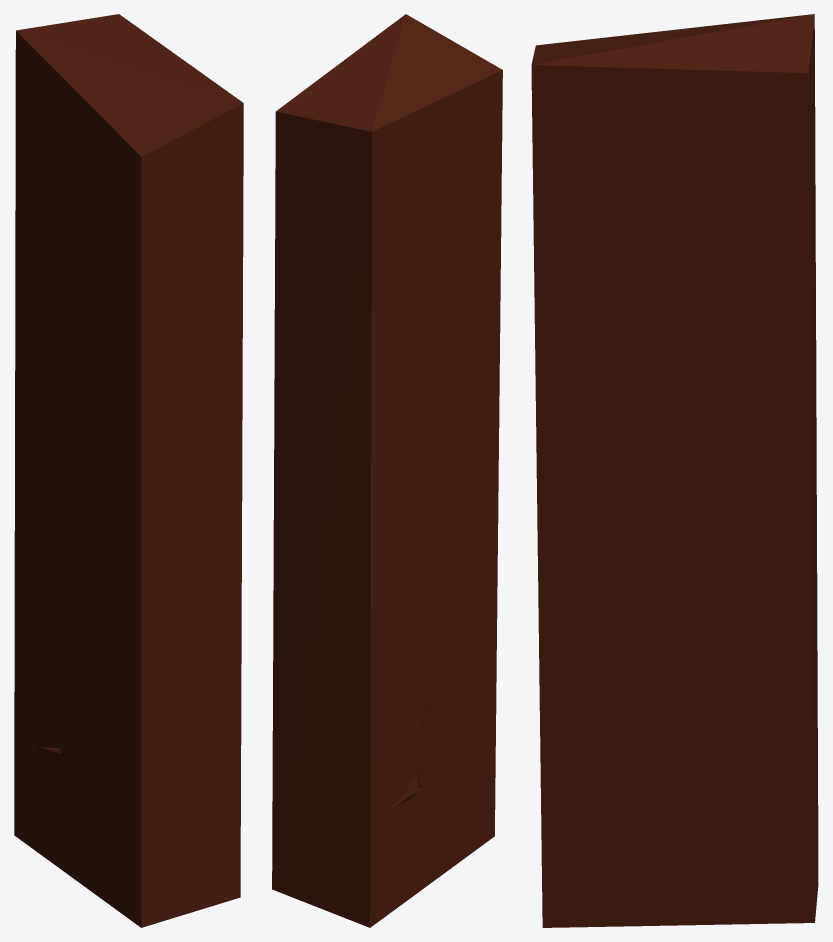
3 renders of one model, left to right at view 1: azimuth 30°, elevation 25°; view 2: azimuth 150°, elevation 25°; view 3: azimuth 270°, elevation 25°, orthographic. The views are drawn at different scales.
Visible parts, largest first — view 1: 250_Cube.1025; view 2: 250_Cube.1025; view 3: 250_Cube.1025.
Part boxes in pixels (x1=…): 250_Cube.1025: x1=14, y1=14, x2=243, y2=927; 250_Cube.1025: x1=272, y1=14, x2=502, y2=927; 250_Cube.1025: x1=531, y1=14, x2=818, y2=927.
Bounding box in the file's own units: 1.94 × 12.67 × 3.79.
